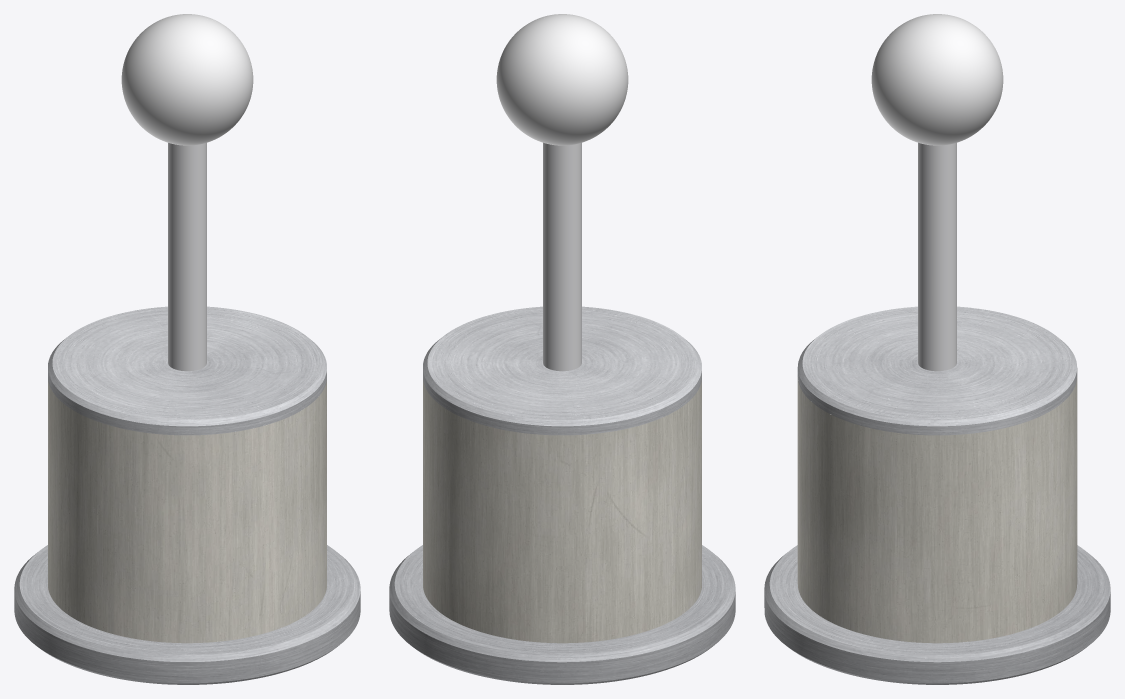
Rendered from pawn-white-hd.glb.
3 renders of one model, left to right at view 1: azimuth 30°, elevation 25°; view 2: azimuth 150°, elevation 25°; view 3: azimuth 270°, elevation 25°, orthographic.
Visible parts, largest first — view 1: ferro-orbis_pawn_white; view 2: ferro-orbis_pawn_white; view 3: ferro-orbis_pawn_white.
Boxes of the visible parts, x1,y1,x2,y2 form: ferro-orbis_pawn_white: (14,14,360,684); ferro-orbis_pawn_white: (389,14,735,684); ferro-orbis_pawn_white: (764,14,1110,684).
Bounding box in the file's own units: 0.4551 × 0.86 × 0.4551.
5 materials, 3 textured.
